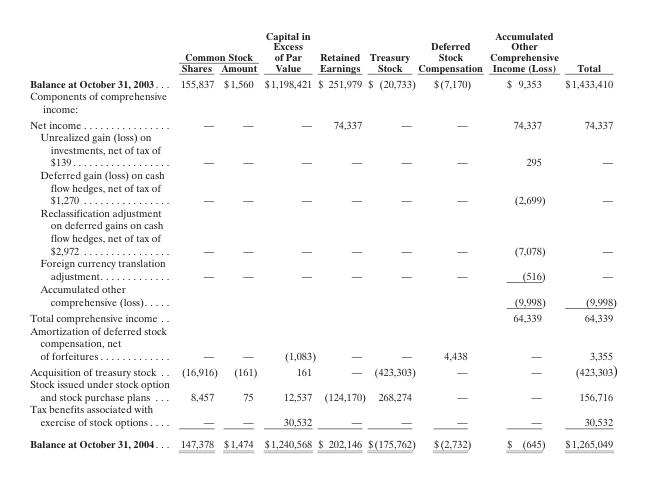table: (29, 29, 617, 449)
table column: (29, 29, 174, 449), (485, 29, 561, 449), (416, 29, 485, 449), (260, 29, 316, 449), (561, 29, 617, 449), (316, 29, 366, 449), (366, 29, 416, 449), (174, 29, 218, 449), (218, 29, 260, 449)
table column header: (29, 29, 617, 74)
table projected row header: (29, 89, 617, 116)
table row: (29, 205, 617, 256), (29, 167, 617, 205), (29, 323, 617, 361), (29, 130, 617, 167), (29, 29, 617, 61), (29, 402, 617, 432), (29, 281, 617, 309), (29, 89, 617, 116), (29, 256, 617, 281), (29, 377, 617, 402), (29, 432, 617, 449), (29, 361, 617, 377), (29, 74, 617, 89), (29, 116, 617, 130), (29, 309, 617, 323), (29, 61, 617, 74)
table spanning cell: (485, 29, 561, 74), (416, 29, 485, 74), (174, 29, 260, 61), (260, 29, 316, 74), (561, 29, 617, 74), (316, 29, 366, 74), (366, 29, 416, 74)
